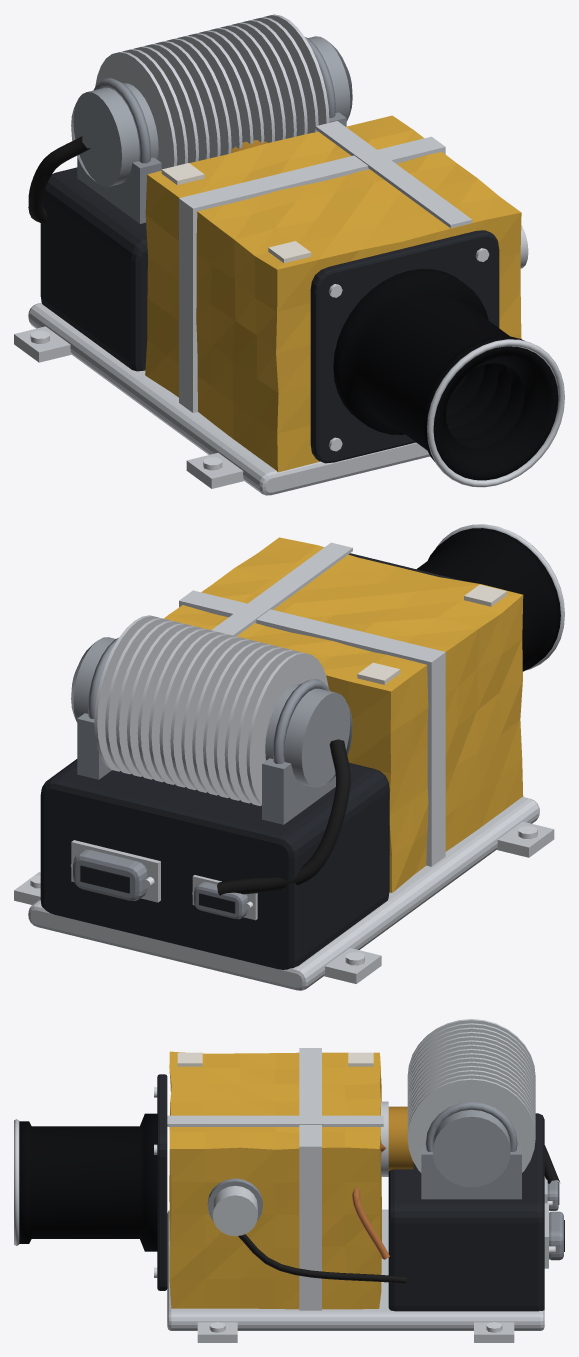
The model's file is inst-ir-spec.glb.
3 views of the same model, one above another, from view 1: azimuth 30°, elevation 25°; view 2: azimuth 150°, elevation 25°; view 3: azimuth 270°, elevation 25° (orthographic). The views are drawn at different scales.
Visible parts, largest first — view 1: optics-mli, baffle, radiator-fins, electronics-box, front-flange, base-plate, mli-tape-ring, compressor, mli-tape-top, baffle-lip, mount-tabs, saddle (+3 smaller); view 2: optics-mli, electronics-box, radiator-fins, base-plate, baffle, mli-tape-ring, compressor, saddle (×2), drive-cable, mli-tape-top, mount-tabs, conn-data-shell (+7 smaller); view 3: optics-mli, electronics-box, baffle, radiator-fins, base-plate, mli-tape-ring, compressor, saddle, mli-tape-top, front-flange, stop-motor, mount-tabs (+9 smaller).
Boxes of the visible parts, x1,y1,x2,y2 form: optics-mli: (145, 115, 521, 472); baffle: (333, 269, 558, 480); radiator-fins: (95, 14, 329, 169); electronics-box: (40, 167, 147, 371); front-flange: (310, 230, 499, 463); base-plate: (28, 302, 430, 495); mli-tape-ring: (179, 136, 445, 412); compressor: (73, 36, 350, 186); mli-tape-top: (315, 121, 472, 228); baffle-lip: (427, 339, 564, 487); mount-tabs: (14, 326, 244, 488); saddle: (77, 157, 161, 223); optics-mli: (164, 537, 523, 892); electronics-box: (40, 759, 389, 969); radiator-fins: (94, 615, 328, 806); base-plate: (28, 797, 539, 990); baffle: (416, 528, 560, 671); mli-tape-ring: (179, 590, 445, 866); compressor: (73, 637, 350, 787); saddle (×2): (77, 713, 335, 824); drive-cable: (217, 739, 350, 895); mli-tape-top: (211, 542, 352, 636); mount-tabs: (14, 821, 554, 983); conn-data-shell: (73, 849, 147, 900); optics-mli: (169, 1051, 381, 1309); electronics-box: (388, 1113, 544, 1311); baffle: (19, 1113, 157, 1251); radiator-fins: (407, 1019, 535, 1172); base-plate: (167, 1209, 544, 1330); mli-tape-ring: (299, 1048, 321, 1310); compressor: (432, 1109, 510, 1187); saddle: (421, 1146, 521, 1199); mli-tape-top: (167, 1115, 383, 1126); front-flange: (157, 1074, 167, 1290); stop-motor: (212, 1185, 257, 1236); mount-tabs: (197, 1322, 514, 1342).
Bounding box in the file's own units: 0.126 × 0.101 × 0.2192.
